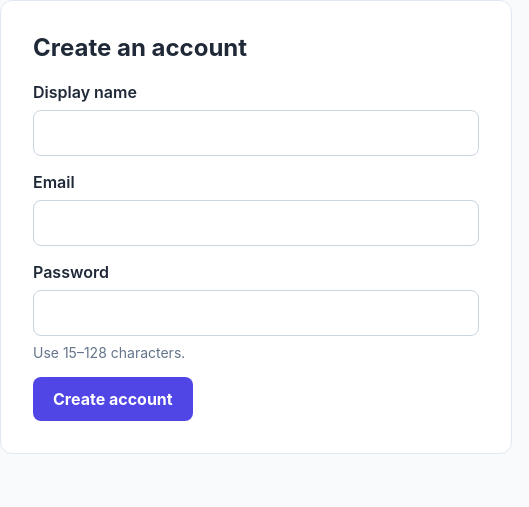
Test: RegisterForm › shows the API error and preserves values when registration fails
In the field labelled "Display name": (256, 133) [33, 110, 479, 156], type "Alice"
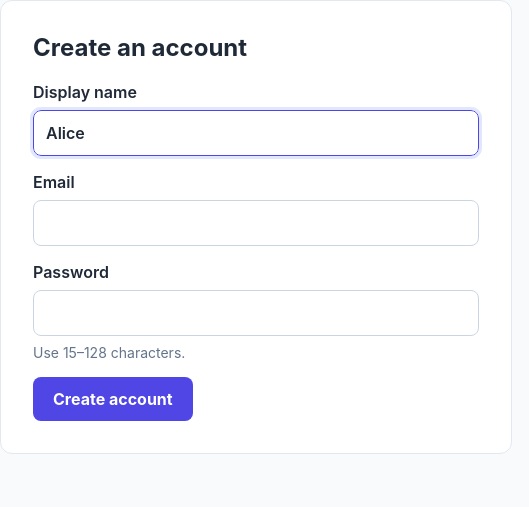
In the field labelled "Email": (256, 223) [33, 200, 479, 246], type "alice@example.com"
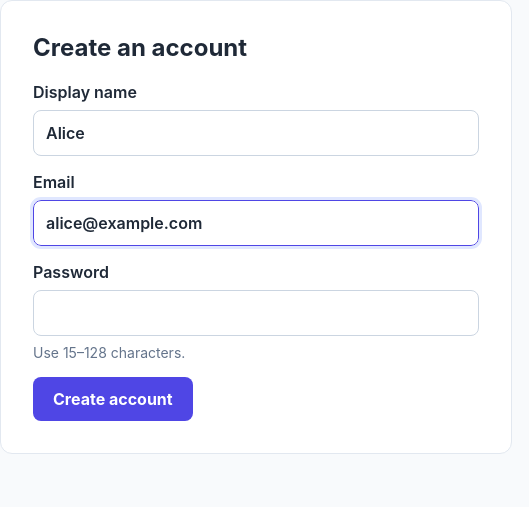
In the password field labelled "Password Use 15–128 characters.": (256, 313) [33, 290, 479, 336], type "Example password 123!"
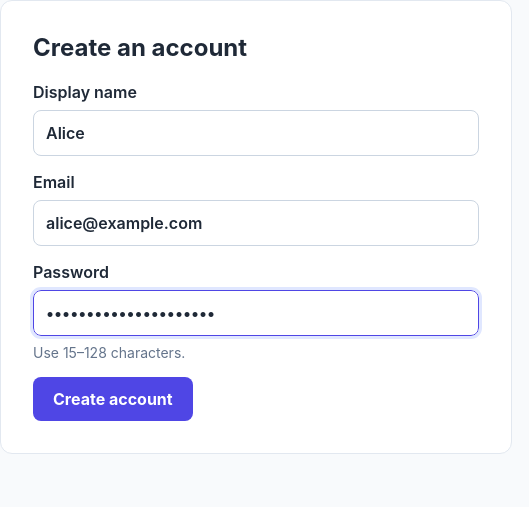
Click the button "Create account": click(113, 399) [33, 377, 193, 421]
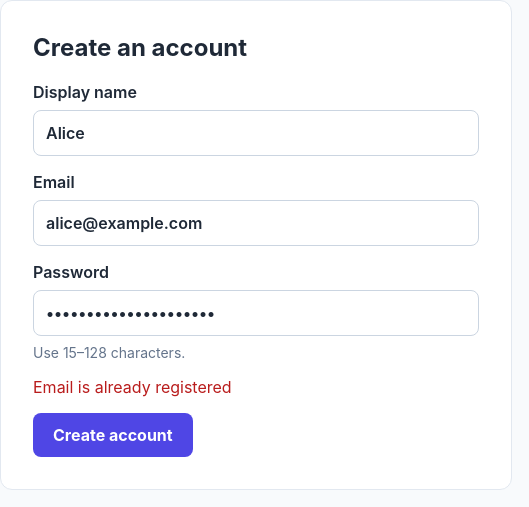
expect the button "Create account" is enabled: met, box [33, 413, 193, 457]
expect the message reads "Email is already registered": met, box [33, 377, 232, 397]
